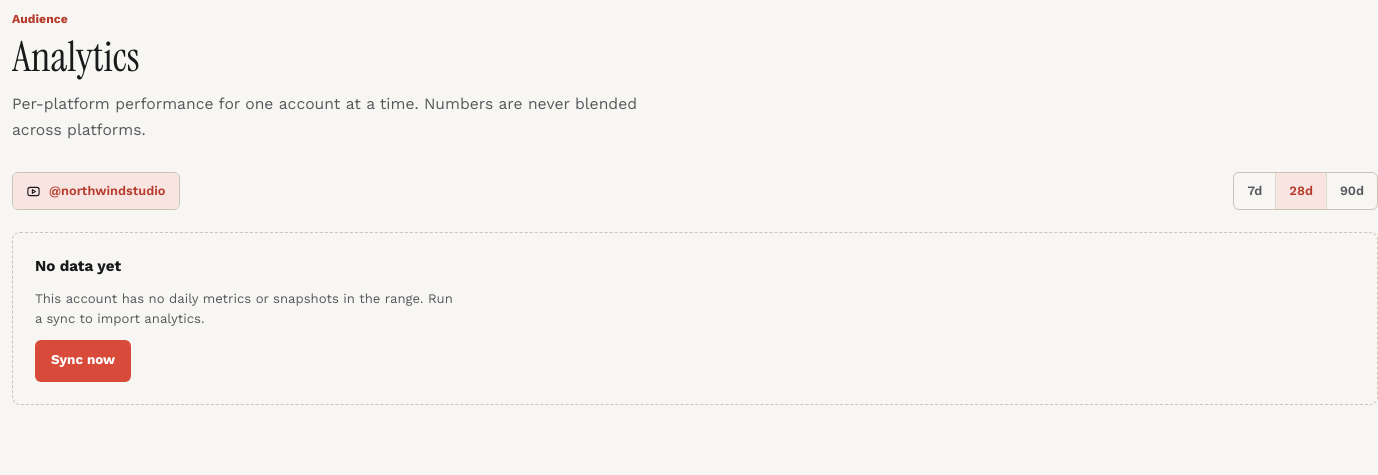
Test: AnalyticsWorkspace › polls a queued sync run until it completes
What coordinates should you click on to do the following:
click the button "Sync now"
I would click on:
 (83, 360)
Its box is [35,340,131,382].
Wait 3200 ms
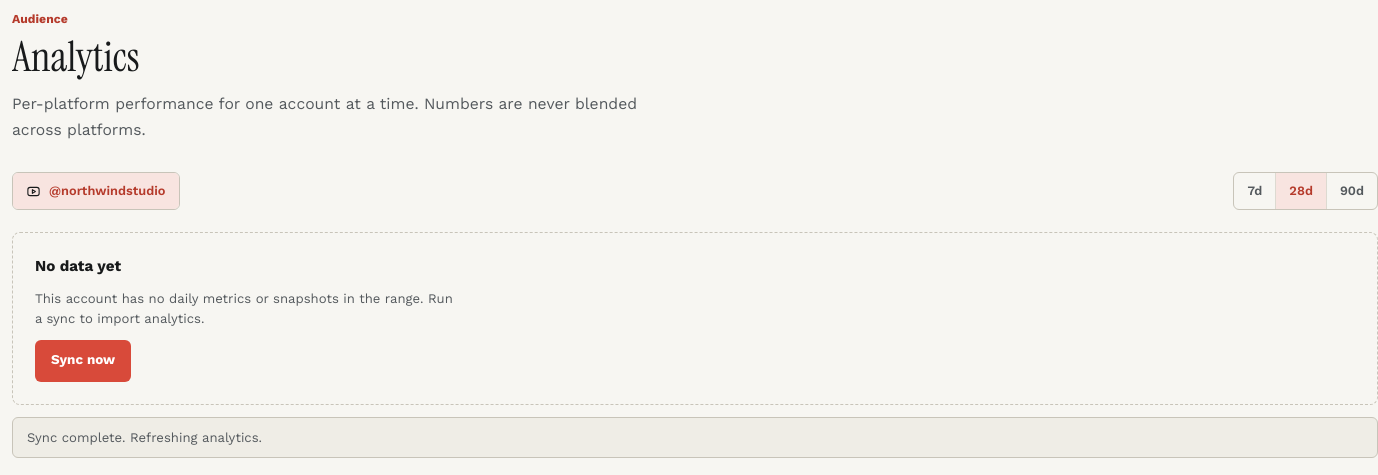
Expected: the text "Sync complete. Refreshing analytics." is shown, [12,416,1377,458]
